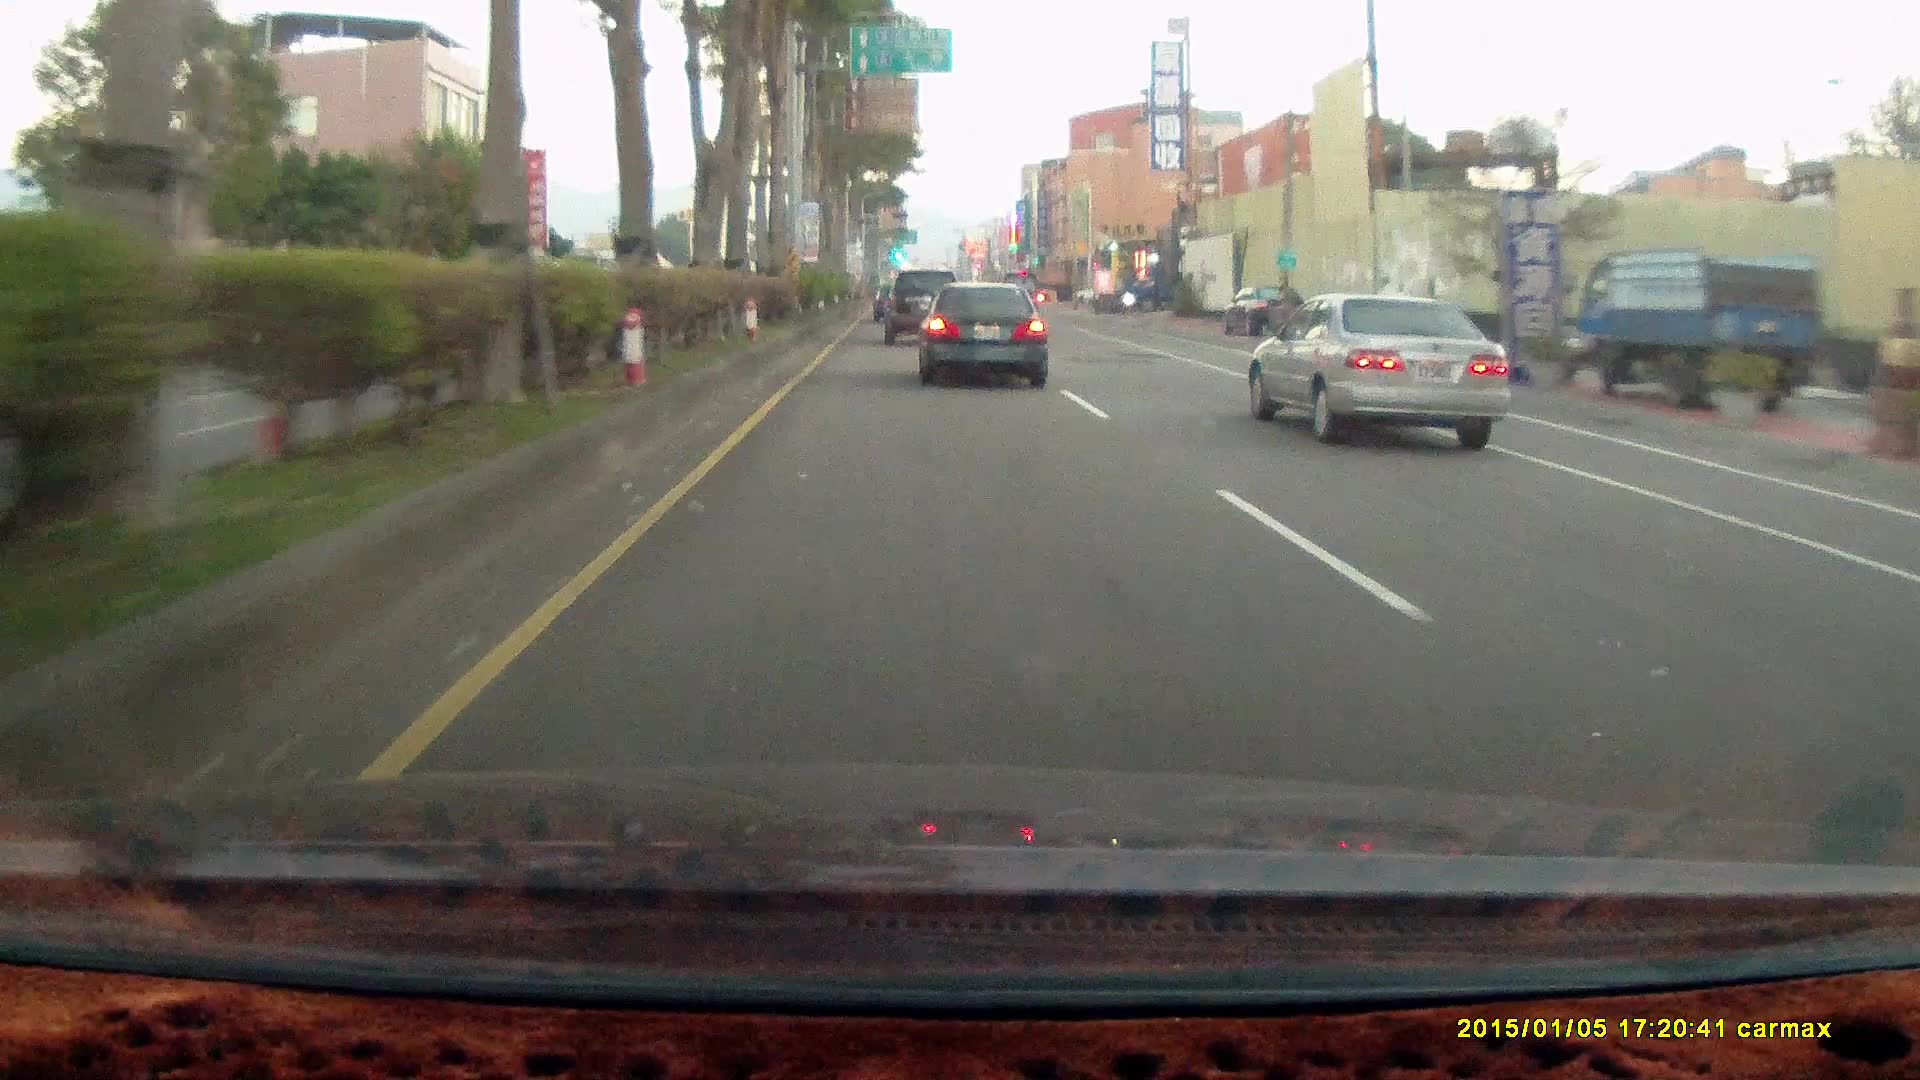vehicle: (1568, 248, 1830, 418), (1245, 291, 1511, 452), (1261, 298, 1527, 458), (1572, 249, 1822, 415), (914, 281, 1047, 386), (916, 287, 1048, 392), (884, 266, 963, 345), (1221, 289, 1307, 342), (1121, 266, 1197, 314)
